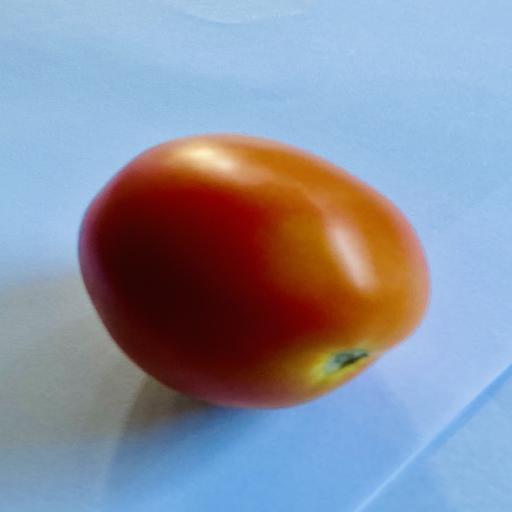ripe: (80, 134, 429, 408)
